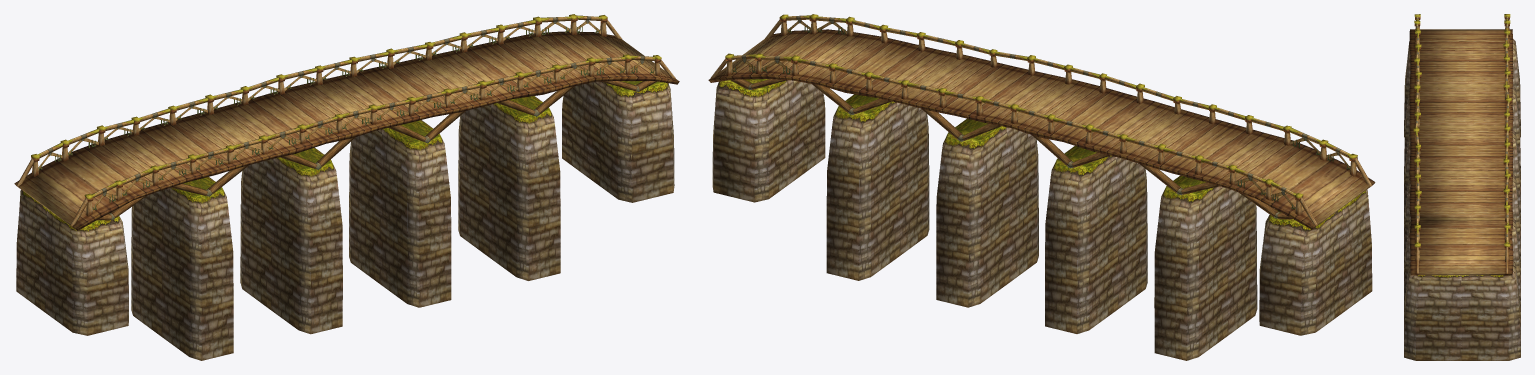
File: obj_maflprbr03.glb
The picture shows the model from 3 angles, left to right: view 1: azimuth 30°, elevation 25°; view 2: azimuth 150°, elevation 25°; view 3: azimuth 270°, elevation 25°; orthographic projection. The views are drawn at different scales.
Visible parts, largest first — view 1: part_0; view 2: part_0; view 3: part_0.
Boxes of the visible parts, x1,y1,x2,y2 form: part_0: [14, 14, 679, 360]; part_0: [708, 14, 1375, 360]; part_0: [1404, 14, 1520, 360].
Size of the model in its own units: 34.41 by 11.13 by 6.93.
Materials: 2 (2 with a texture image).
